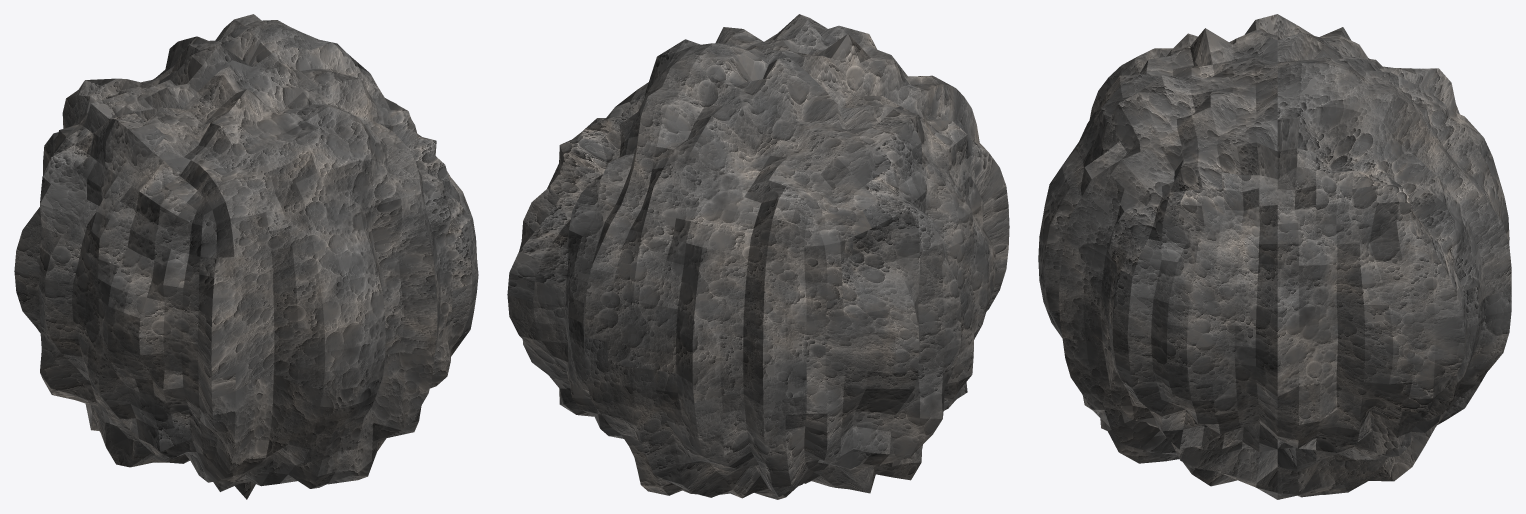
File: asteroid121.obj
3 renders of one model, left to right at view 1: azimuth 30°, elevation 25°; view 2: azimuth 150°, elevation 25°; view 3: azimuth 270°, elevation 25°, orthographic. The views are drawn at different scales.
Parts seen in each view (by area): view 1: Cube_Cube.002; view 2: Cube_Cube.002; view 3: Cube_Cube.002.
Boxes of the visible parts, x1=… form: Cube_Cube.002: x1=14, y1=14, x2=478, y2=499; Cube_Cube.002: x1=507, y1=14, x2=1009, y2=499; Cube_Cube.002: x1=1038, y1=14, x2=1511, y2=499.
Size of the model in its own units: 1.69 by 1.74 by 1.72.
